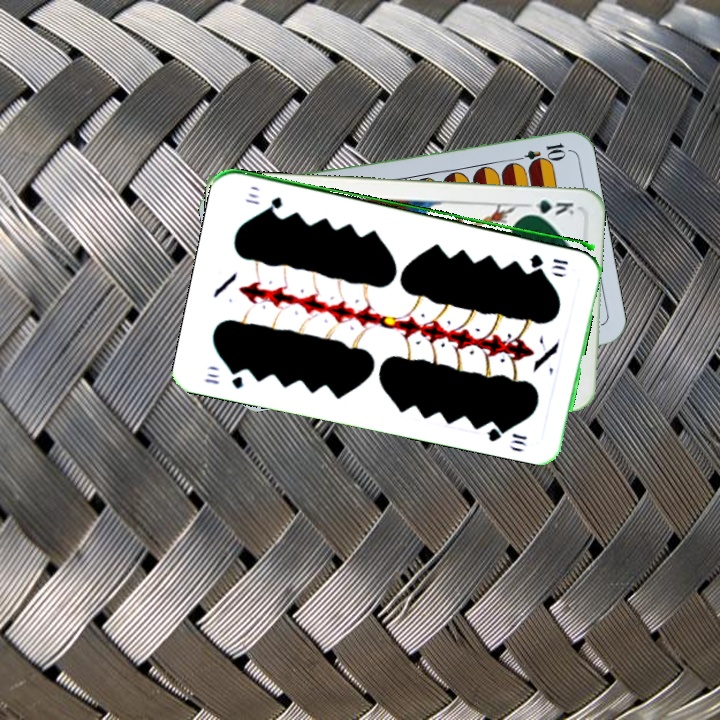E10: (509, 139, 568, 166)
G10: (201, 364, 246, 391), (525, 250, 571, 267)
GK: (520, 196, 577, 218)
